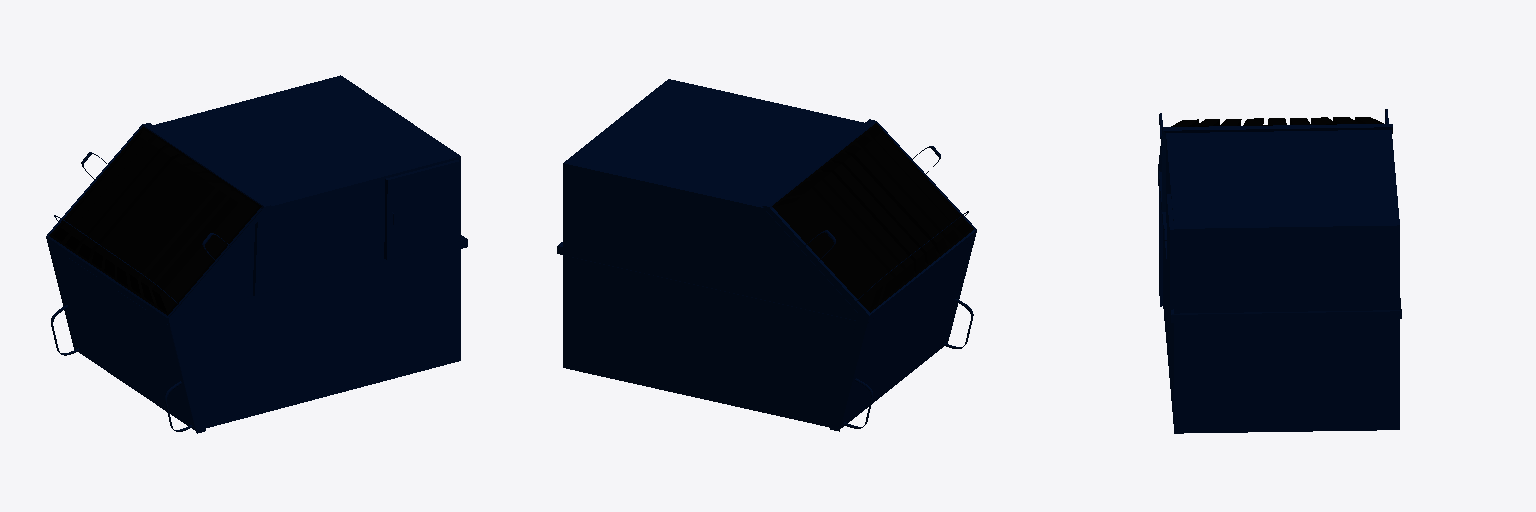
File: Container.obj
3 renders of one model, left to right at view 1: azimuth 30°, elevation 25°; view 2: azimuth 150°, elevation 25°; view 3: azimuth 270°, elevation 25°, orthographic.
Parts seen in each view (by area): view 1: Plane.041_Plane.161; view 2: Plane.041_Plane.161; view 3: Plane.041_Plane.161.
Boxes of the visible parts, <box> form: Plane.041_Plane.161: <box>46,75,467,433</box>; Plane.041_Plane.161: <box>557,79,976,431</box>; Plane.041_Plane.161: <box>1158,109,1401,433</box>.
Size of the model in its own units: 3.55 by 2.25 by 2.38.